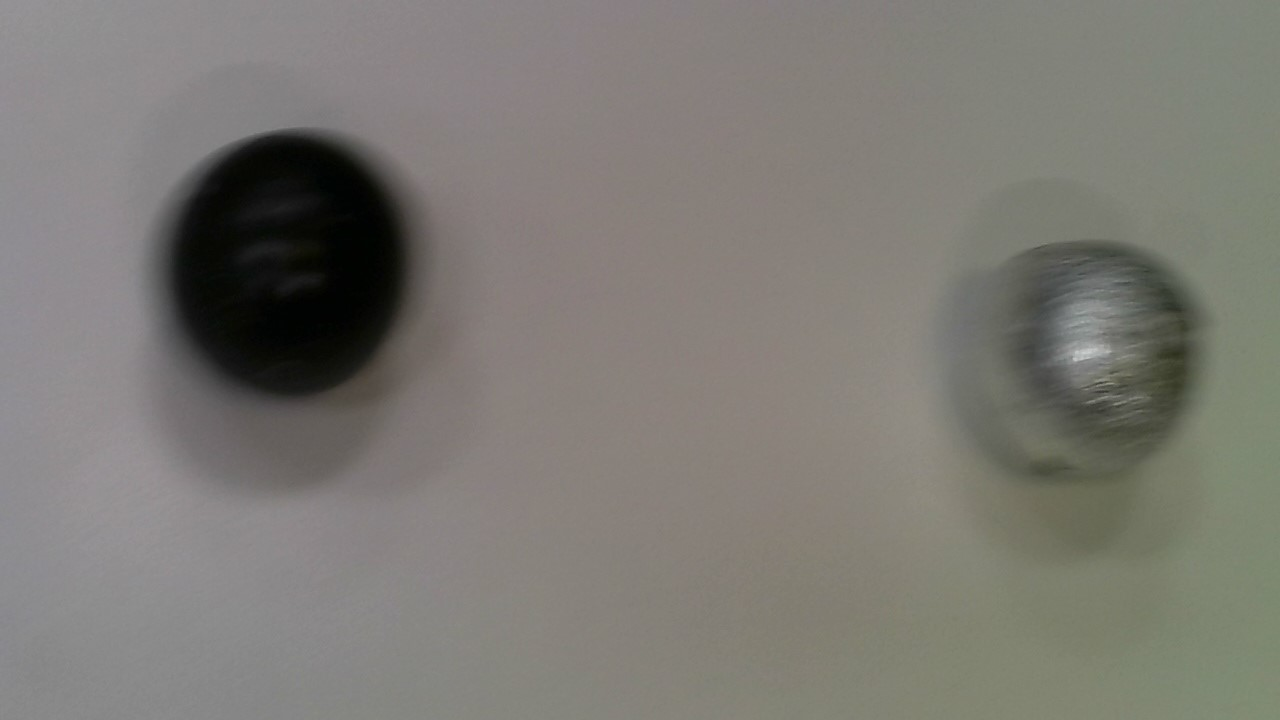black_ball: (160, 109, 420, 408)
silver_ball: (955, 233, 1211, 496)
